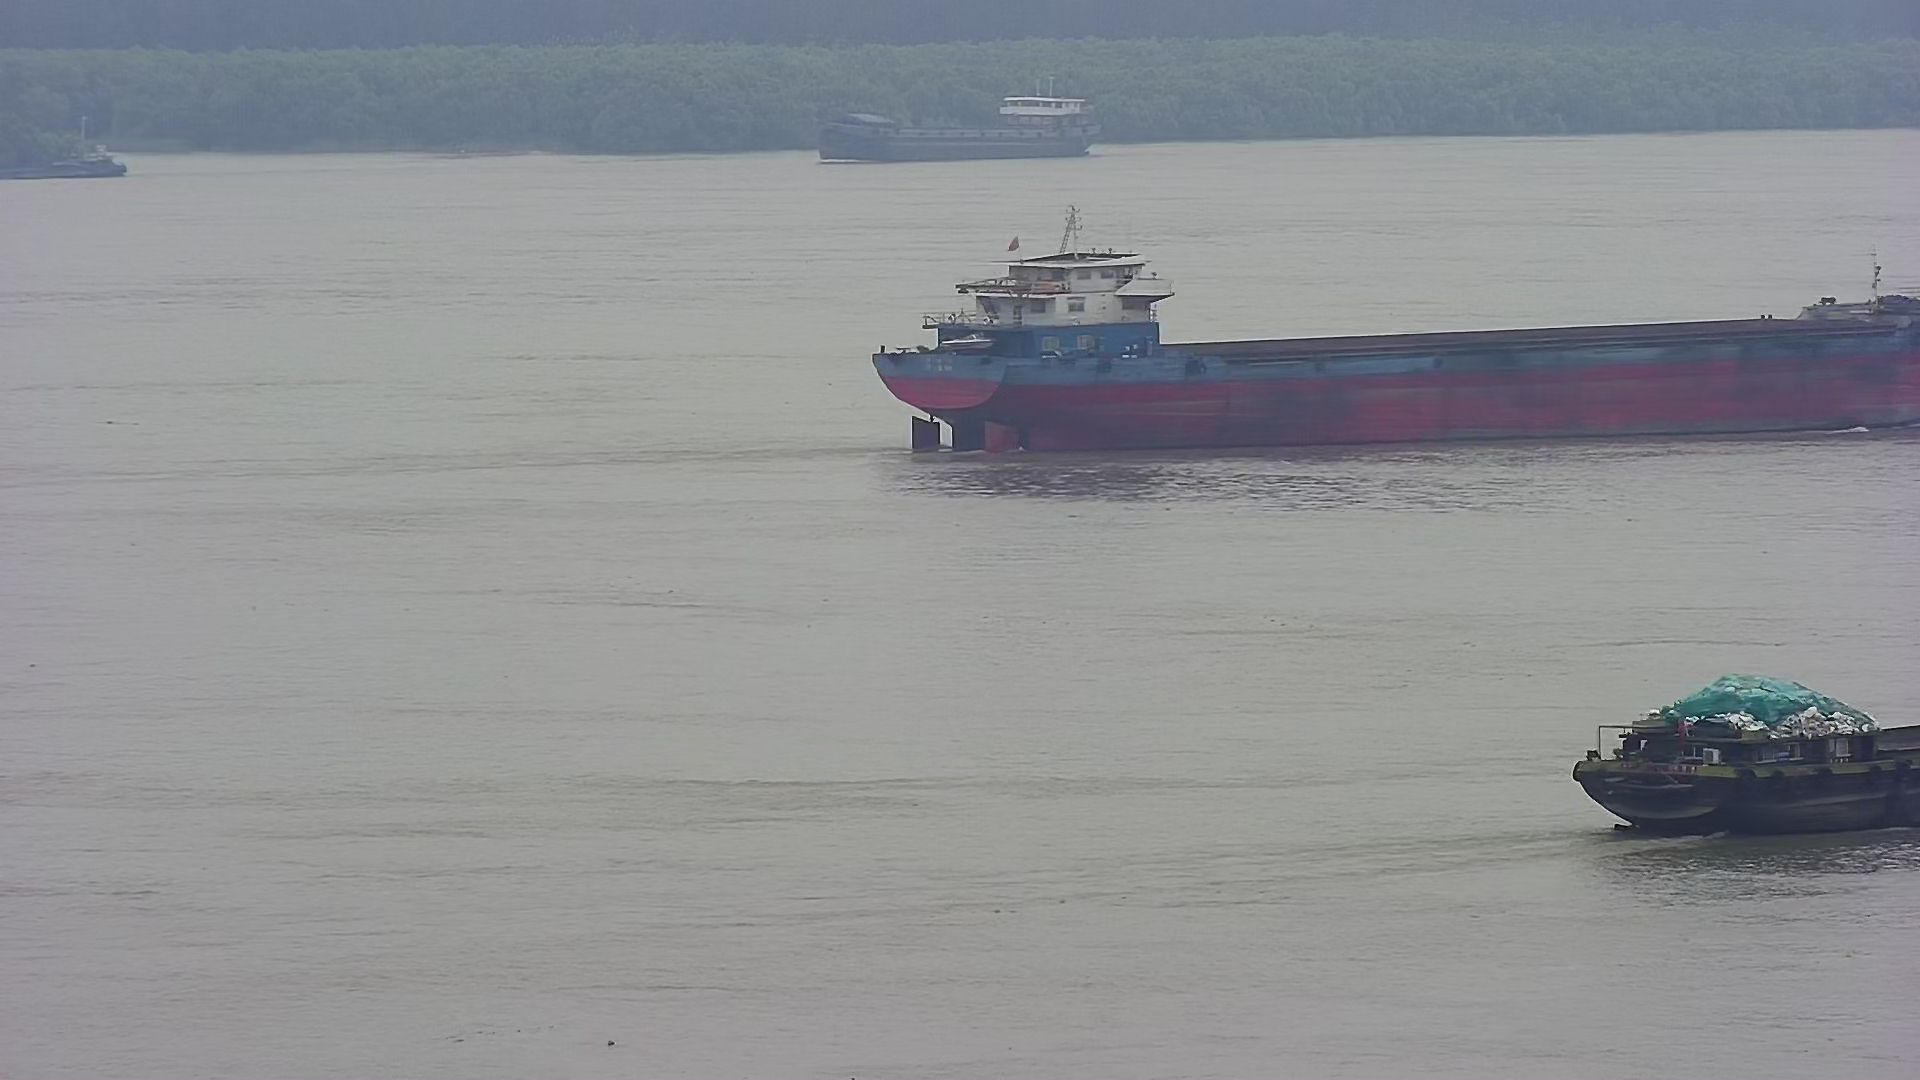boat: (1, 87, 153, 212)
ship: (873, 240, 1920, 472), (1567, 676, 1920, 849), (785, 55, 1139, 185)
